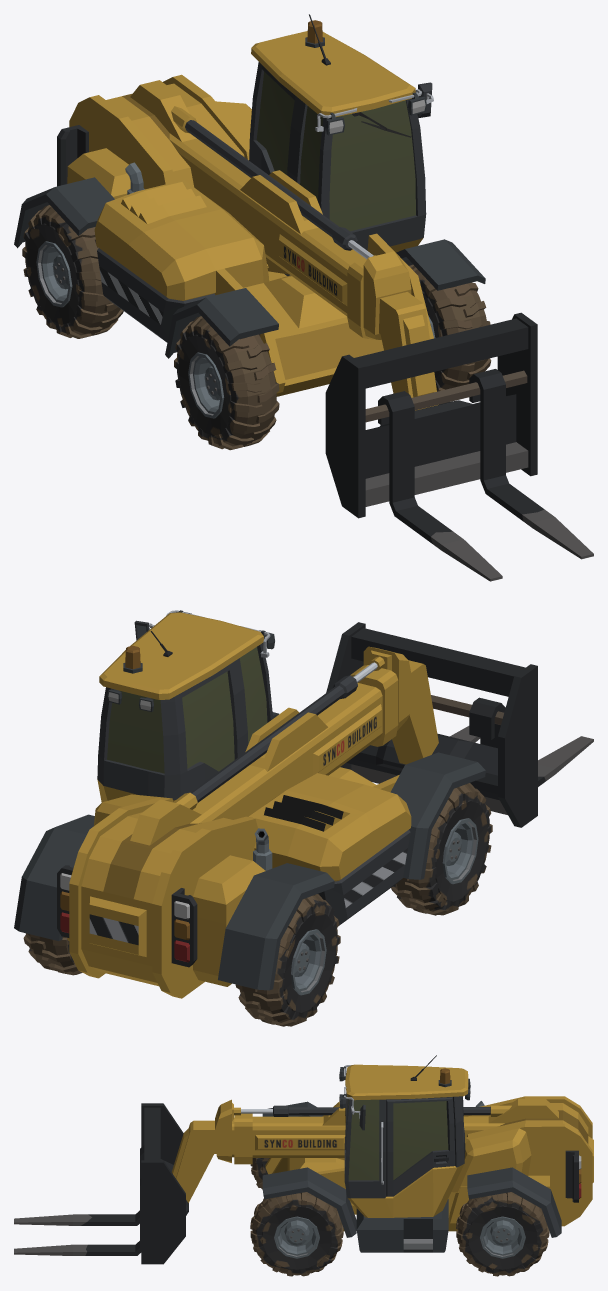
Rendered from SM_Veh_Telehandler_01.fbx.
3 views of the same model, one above another, from view 1: azimuth 30°, elevation 25°; view 2: azimuth 150°, elevation 25°; view 3: azimuth 270°, elevation 25° (orthographic). The views are drawn at different scales.
Visible parts, largest first — view 1: SM_Veh_Telehandler_01, SM_Veh_Telehandler_01_Forks, SM_Veh_Telehandler_01_Glass, SM_Veh_Telehandler_01_Wheel_fr, SM_Veh_Telehandler_01_Wheel_rr, SM_Veh_Telehandler_01_Wheel_fl, SM_Veh_Telehandler_01_Arm_03, SM_Veh_Telehandler_01_Arm_02; view 2: SM_Veh_Telehandler_01, SM_Veh_Telehandler_01_Forks, SM_Veh_Telehandler_01_Glass, SM_Veh_Telehandler_01_Wheel_rr, SM_Veh_Telehandler_01_Wheel_fr, SM_Veh_Telehandler_01_Arm_03, SM_Veh_Telehandler_01_Arm_02, SM_Veh_Telehandler_01_Wheel_rl; view 3: SM_Veh_Telehandler_01, SM_Veh_Telehandler_01_Forks, SM_Veh_Telehandler_01_Wheel_fl, SM_Veh_Telehandler_01_Wheel_rl, SM_Veh_Telehandler_01_Glass, SM_Veh_Telehandler_01_Arm_03, SM_Veh_Telehandler_01_Arm_02, SM_Veh_Telehandler_01_Wheel_fr.
Part boxes in pixels (<box>): SM_Veh_Telehandler_01: <box>14,14,485,396</box>; SM_Veh_Telehandler_01_Forks: <box>325,312,593,581</box>; SM_Veh_Telehandler_01_Glass: <box>256,71,415,231</box>; SM_Veh_Telehandler_01_Wheel_fr: <box>174,316,279,450</box>; SM_Veh_Telehandler_01_Wheel_rr: <box>22,205,123,338</box>; SM_Veh_Telehandler_01_Wheel_fl: <box>409,264,491,391</box>; SM_Veh_Telehandler_01_Arm_03: <box>379,292,438,410</box>; SM_Veh_Telehandler_01_Arm_02: <box>348,240,411,339</box>; SM_Veh_Telehandler_01: <box>14,610,485,998</box>; SM_Veh_Telehandler_01_Forks: <box>326,622,593,827</box>; SM_Veh_Telehandler_01_Glass: <box>107,647,267,773</box>; SM_Veh_Telehandler_01_Wheel_rr: <box>235,894,340,1026</box>; SM_Veh_Telehandler_01_Wheel_fr: <box>391,783,492,915</box>; SM_Veh_Telehandler_01_Arm_03: <box>392,660,438,764</box>; SM_Veh_Telehandler_01_Arm_02: <box>353,646,411,730</box>; SM_Veh_Telehandler_01_Wheel_rl: <box>23,933,82,975</box>; SM_Veh_Telehandler_01: <box>234,1055,593,1252</box>; SM_Veh_Telehandler_01_Forks: <box>14,1103,188,1264</box>; SM_Veh_Telehandler_01_Wheel_fl: <box>250,1192,343,1276</box>; SM_Veh_Telehandler_01_Wheel_rl: <box>456,1192,549,1276</box>; SM_Veh_Telehandler_01_Glass: <box>348,1099,448,1180</box>; SM_Veh_Telehandler_01_Arm_03: <box>171,1120,216,1202</box>; SM_Veh_Telehandler_01_Arm_02: <box>215,1099,272,1162</box>; SM_Veh_Telehandler_01_Wheel_fr: <box>250,1158,269,1189</box>.
Size of the model in its own units: 330 by 350 by 883.
